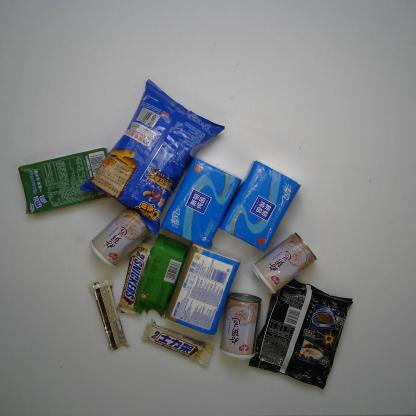Canned Food: (250, 231, 320, 296), (89, 205, 154, 268), (218, 290, 264, 362)
Chocolate: (139, 318, 215, 370), (88, 276, 132, 352), (116, 242, 154, 316)
Dessert: (17, 146, 115, 216), (132, 232, 189, 319)
Instant Noodles: (247, 276, 356, 392)
Puffed Food: (78, 78, 227, 238)
Tissue: (216, 159, 303, 252), (161, 156, 244, 251), (164, 241, 243, 336)
